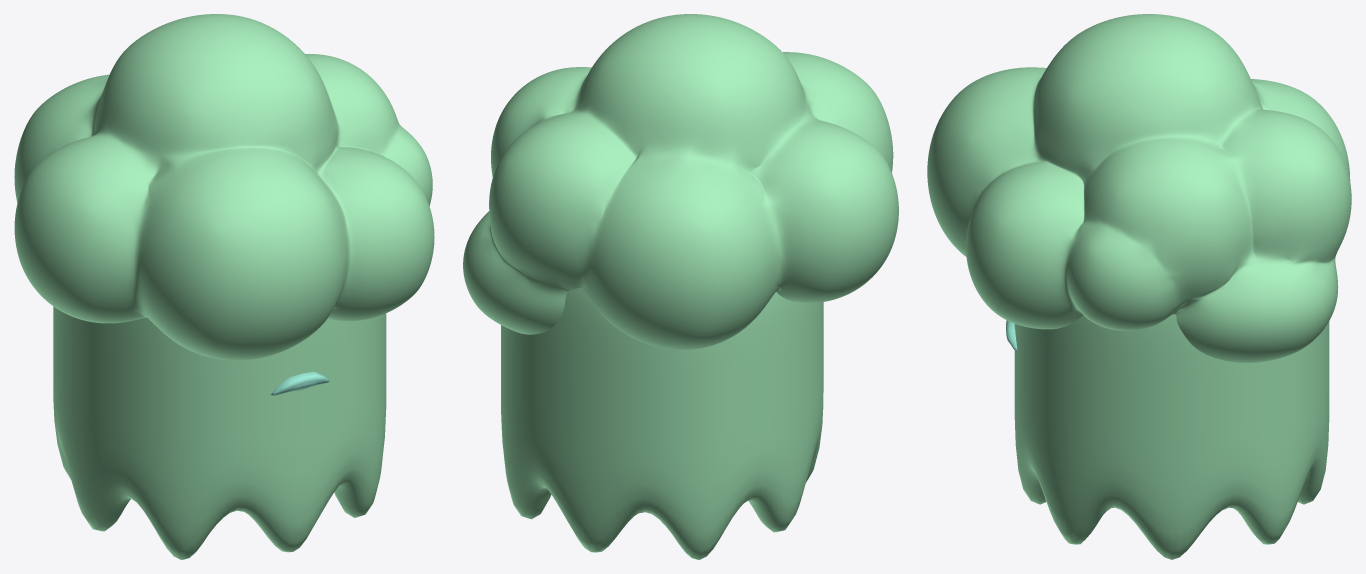
File: drummer_ghost.fbx
3 views of the same model, side by side, from view 1: azimuth 30°, elevation 25°; view 2: azimuth 150°, elevation 25°; view 3: azimuth 270°, elevation 25° (orthographic). The views are drawn at different scales.
Visible parts, largest first — view 1: drummer; view 2: drummer; view 3: drummer.
Boxes of the visible parts, box(x1,y1,x2,y2) form: drummer: box(14, 14, 434, 559); drummer: box(463, 14, 898, 559); drummer: box(927, 14, 1351, 559).
Bounding box in the file's own units: 230 × 275 × 225.
